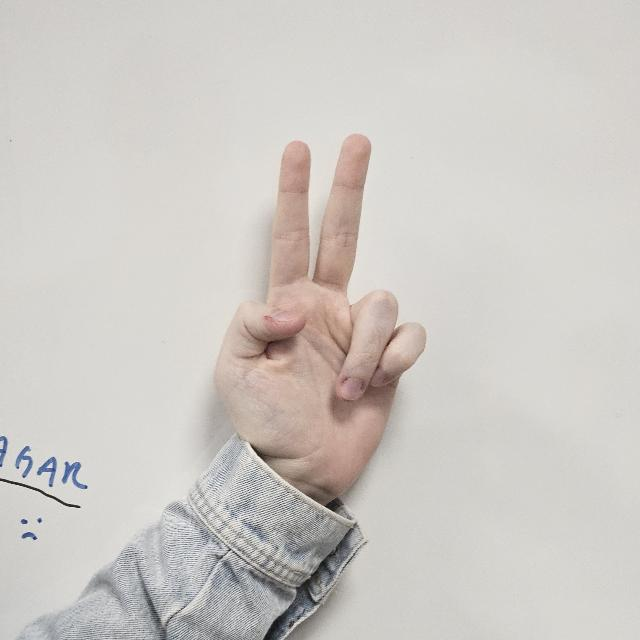Triangulo: (210, 134, 426, 508)
